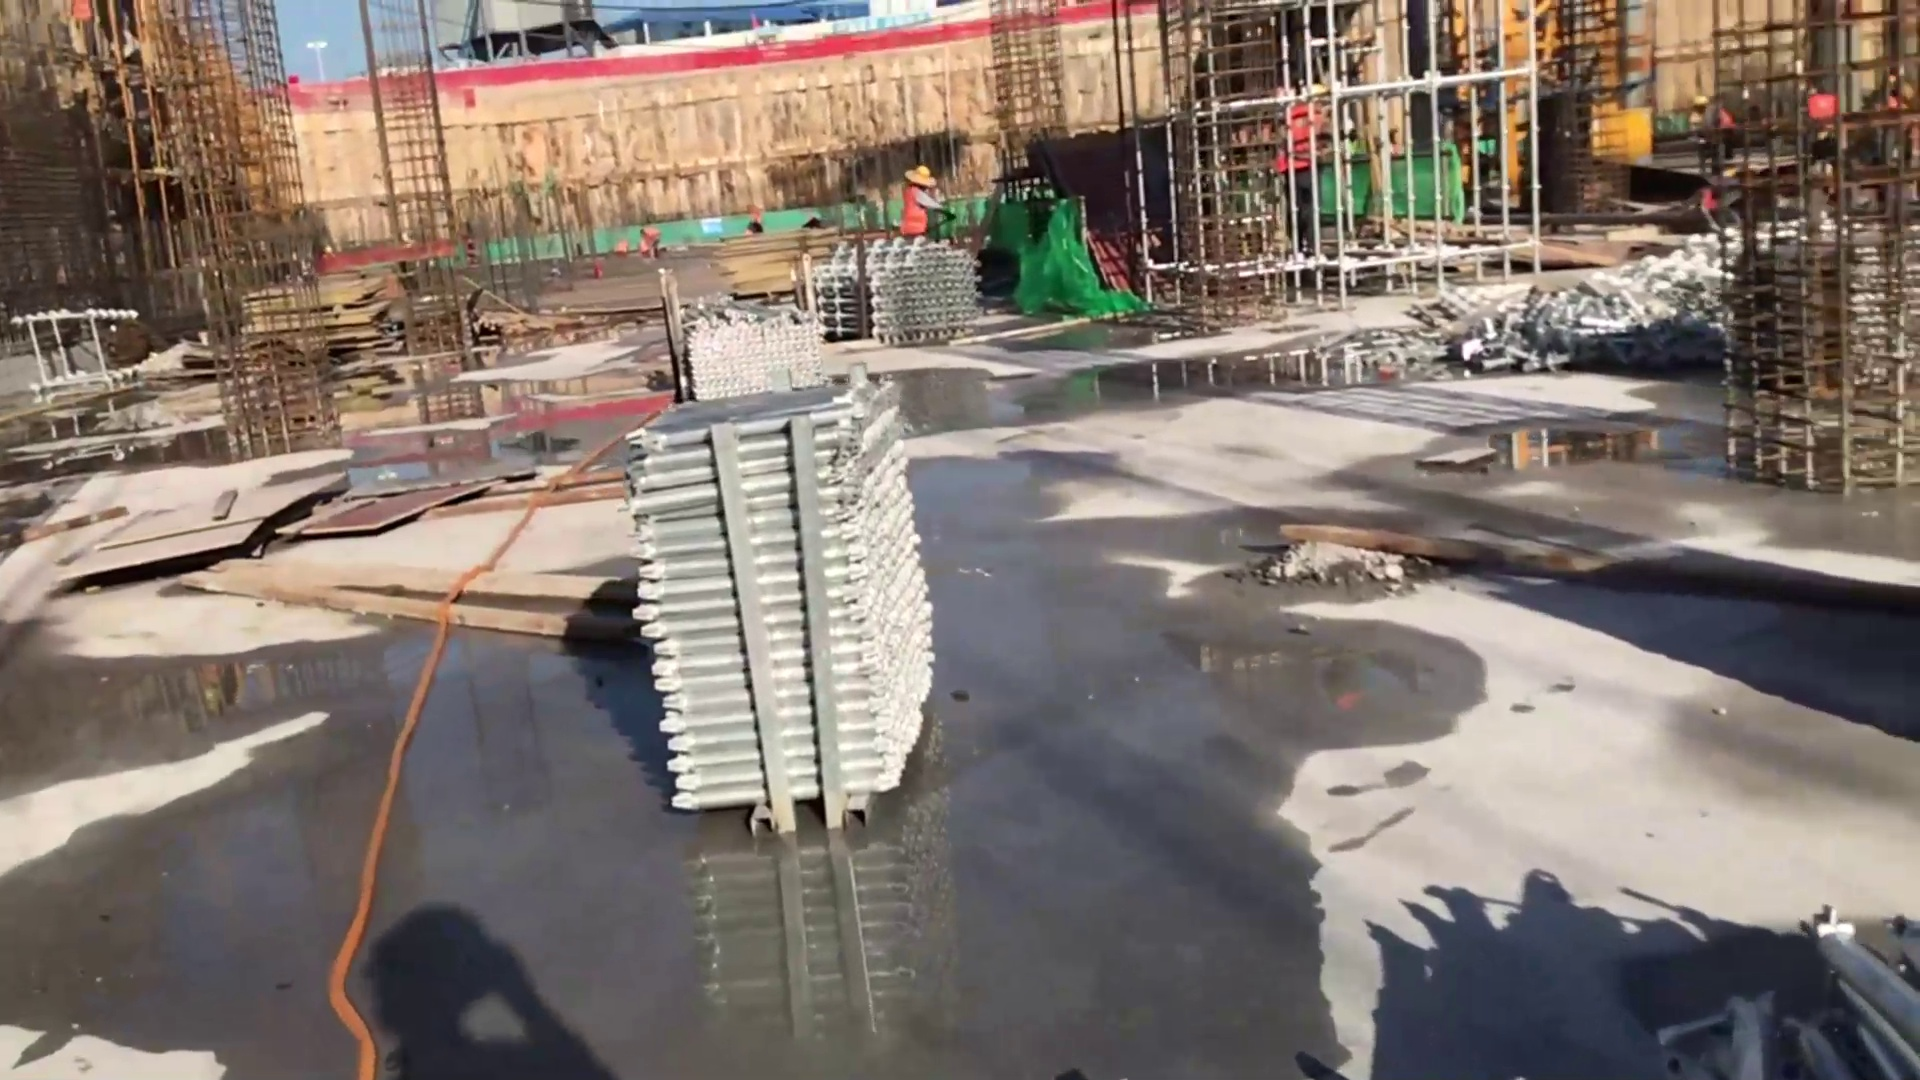board: (239, 277, 389, 338), (716, 230, 836, 300)
person: (1282, 81, 1316, 266), (885, 156, 947, 245)
scaffold: (638, 385, 932, 815), (1466, 267, 1717, 367), (686, 311, 824, 396), (872, 250, 980, 344)
vest: (903, 187, 928, 233)
